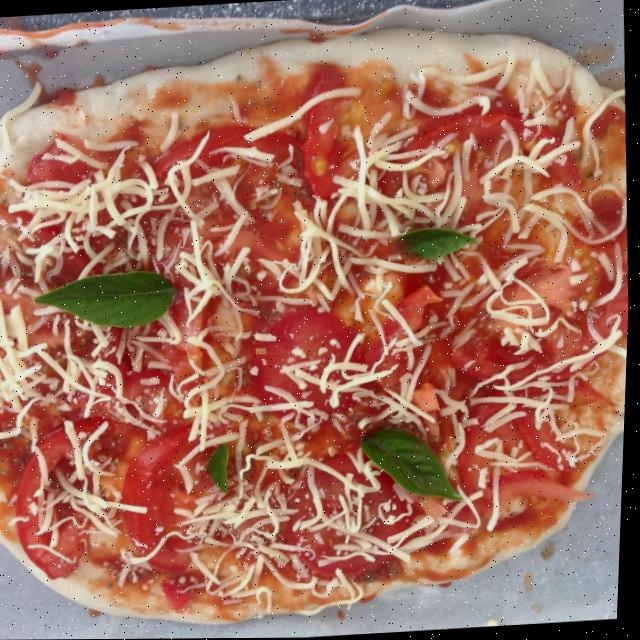basil: (32, 265, 187, 336), (357, 421, 472, 510), (398, 225, 481, 268), (206, 438, 241, 497)
pizza: (0, 14, 639, 635)
tomatoes: (11, 413, 230, 586), (368, 101, 597, 217), (445, 283, 632, 392), (113, 120, 292, 226), (282, 451, 420, 580), (0, 140, 133, 266), (58, 322, 223, 415), (290, 66, 392, 216), (257, 306, 368, 425), (500, 388, 588, 477), (456, 472, 587, 516), (384, 283, 445, 353), (158, 574, 201, 613)
